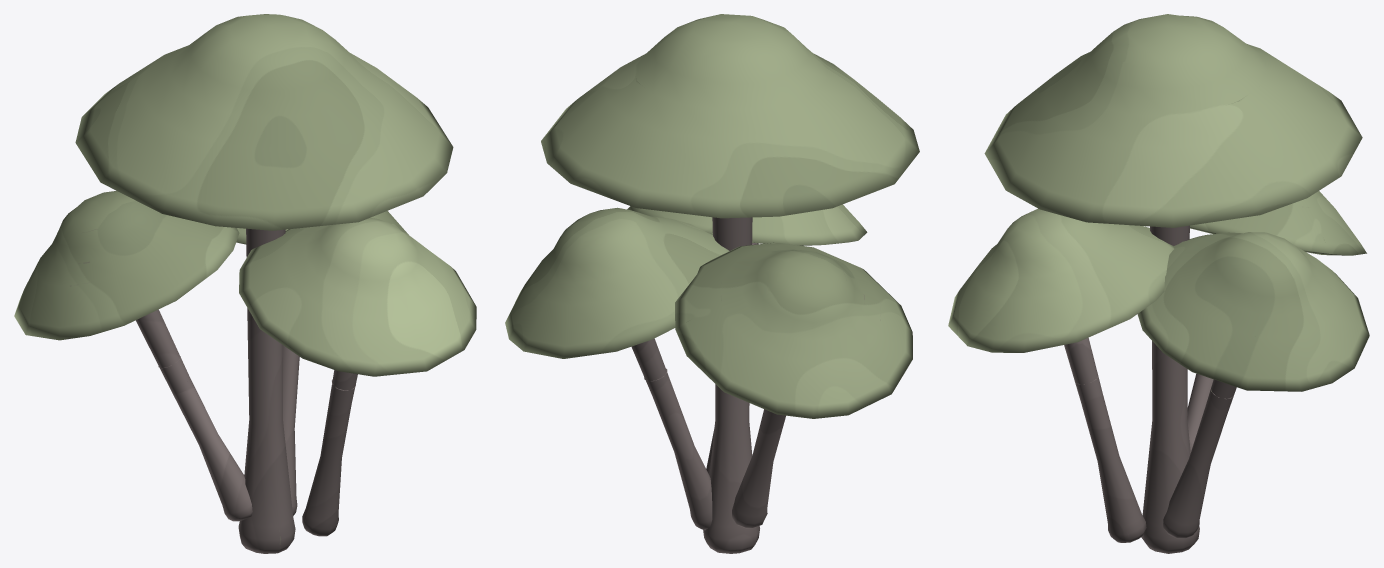
The model's file is Mantar1.fbx.
3 renders of one model, left to right at view 1: azimuth 30°, elevation 25°; view 2: azimuth 150°, elevation 25°; view 3: azimuth 270°, elevation 25°, orthographic.
Parts seen in each view (by area): view 1: mantar_1.001; view 2: mantar_1.001; view 3: mantar_1.001.
Part boxes in pixels (box(x1,y1,x2,y2)): mantar_1.001: box(14, 14, 476, 553); mantar_1.001: box(505, 14, 919, 553); mantar_1.001: box(948, 14, 1369, 553).
Bounding box in the file's own units: 24.51 × 32.6 × 24.01.
1 material, 1 textured.
